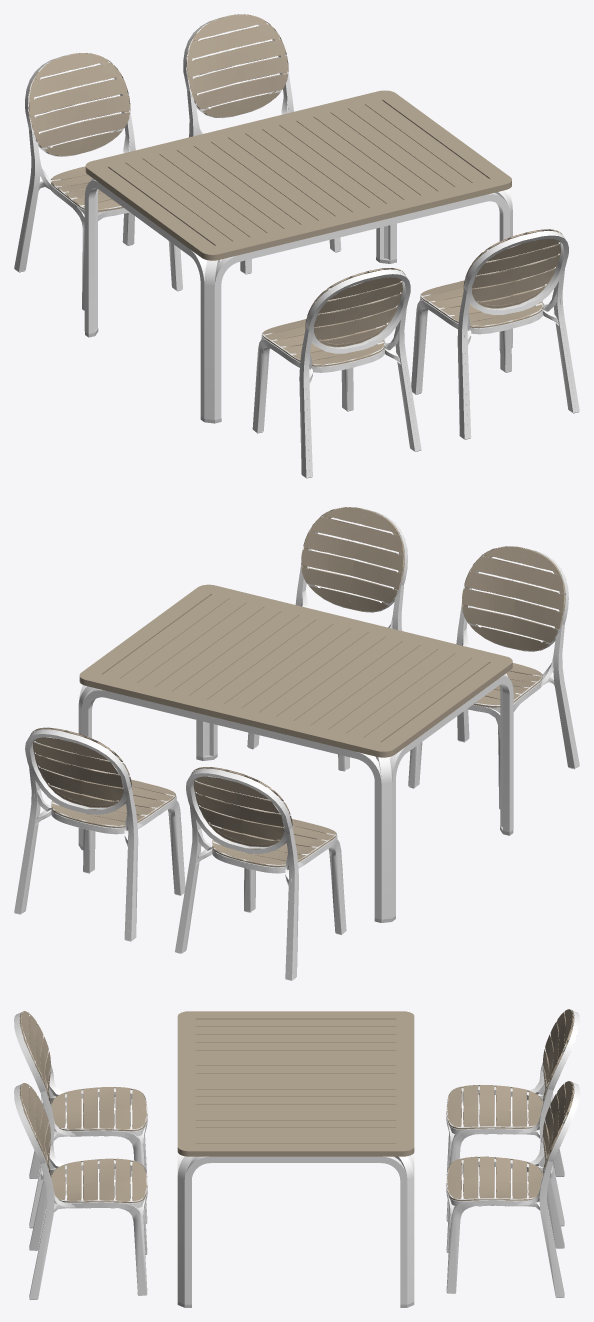
Rendered from alolo-erika-set_nocolor.fbx.
The picture shows the model from 3 angles, top to bottom: view 1: azimuth 30°, elevation 25°; view 2: azimuth 150°, elevation 25°; view 3: azimuth 270°, elevation 25°; orthographic projection. The views are drawn at different scales.
Visible parts, largest first — view 1: aroro-erika-set; view 2: aroro-erika-set; view 3: aroro-erika-set.
Boxes of the visible parts, left/top/right/bottom form: aroro-erika-set: left=14, top=14, right=579, bottom=478; aroro-erika-set: left=14, top=507, right=579, bottom=980; aroro-erika-set: left=14, top=1009, right=579, bottom=1307.
Bounding box in the file's own units: 140 × 85.5 × 239.
